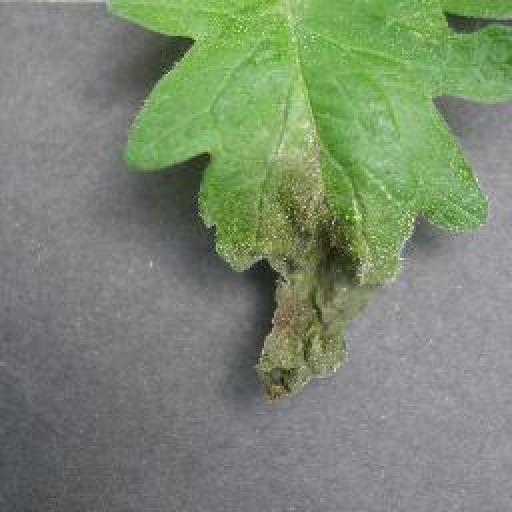Late Blight: (97, 0, 512, 404)
